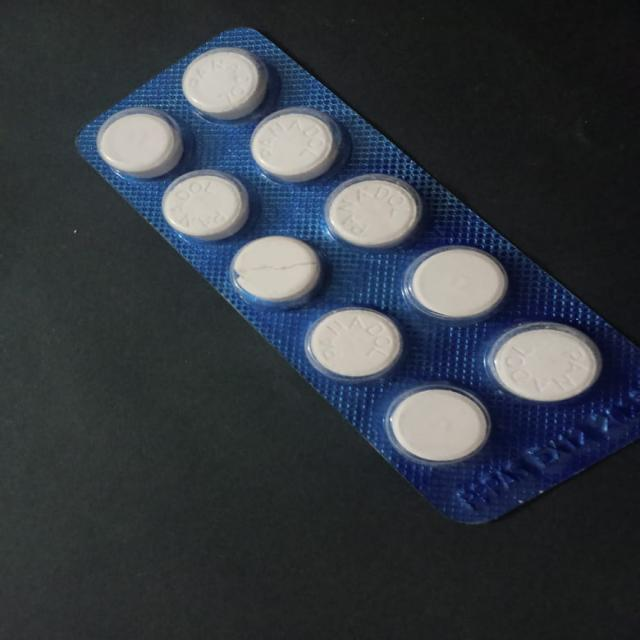defect: (228, 235, 328, 308)
